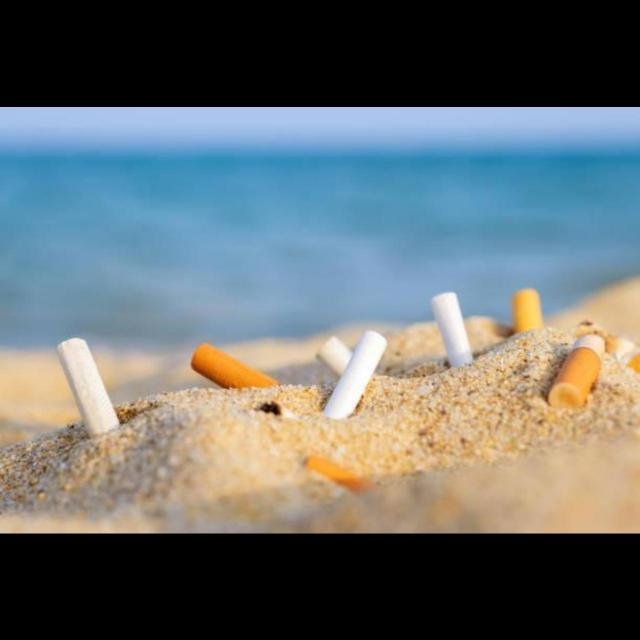cigarette: (56, 338, 120, 439), (323, 331, 388, 419), (547, 334, 604, 408), (191, 343, 281, 389), (576, 320, 640, 375), (430, 292, 473, 367), (307, 456, 366, 494), (511, 287, 542, 333), (317, 337, 353, 376)
